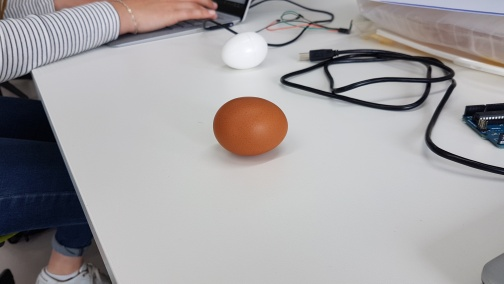egg: (212, 95, 290, 158), (218, 30, 269, 71)
